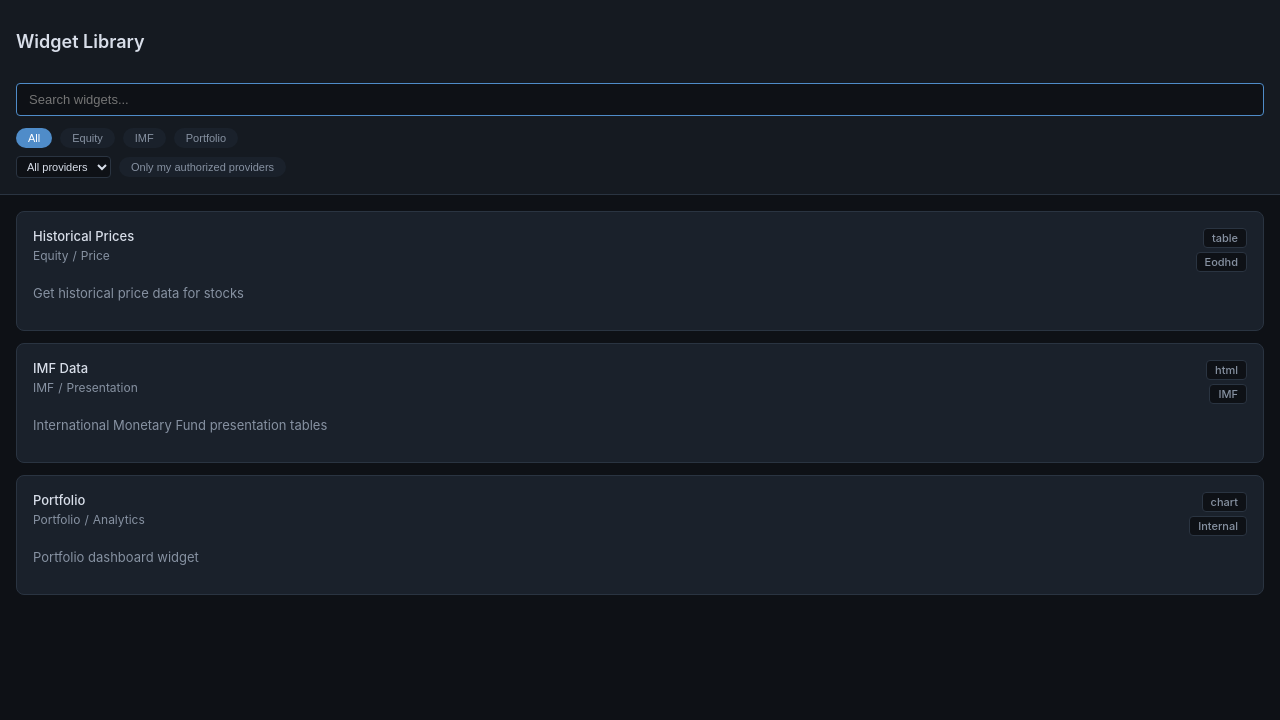
WidgetLibrary › filters widgets by category
Click the button "Equity" at [88, 138], box top-left (60, 128), bottom-right (115, 148)
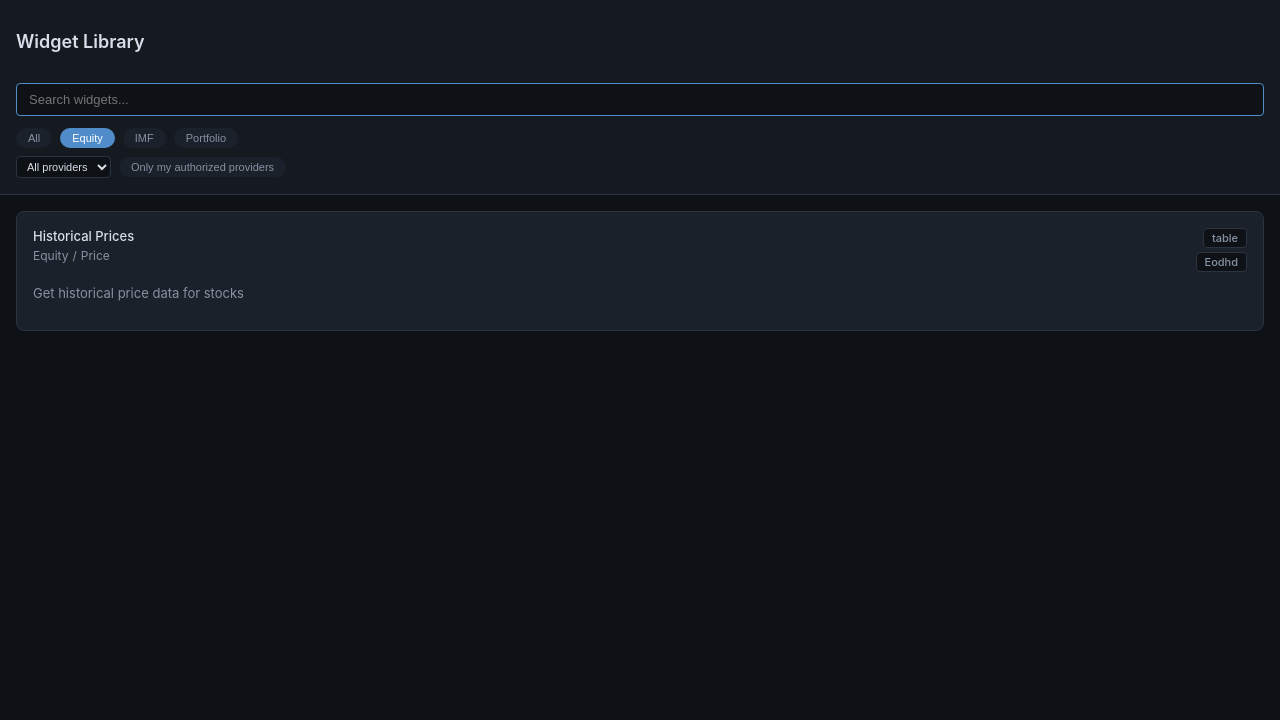
Check: the text "Historical Prices" is shown, box top-left (33, 228), bottom-right (134, 244)
Check: the button "IMF Data" is gone
Check: the button "Portfolio dashboard widget" is gone
